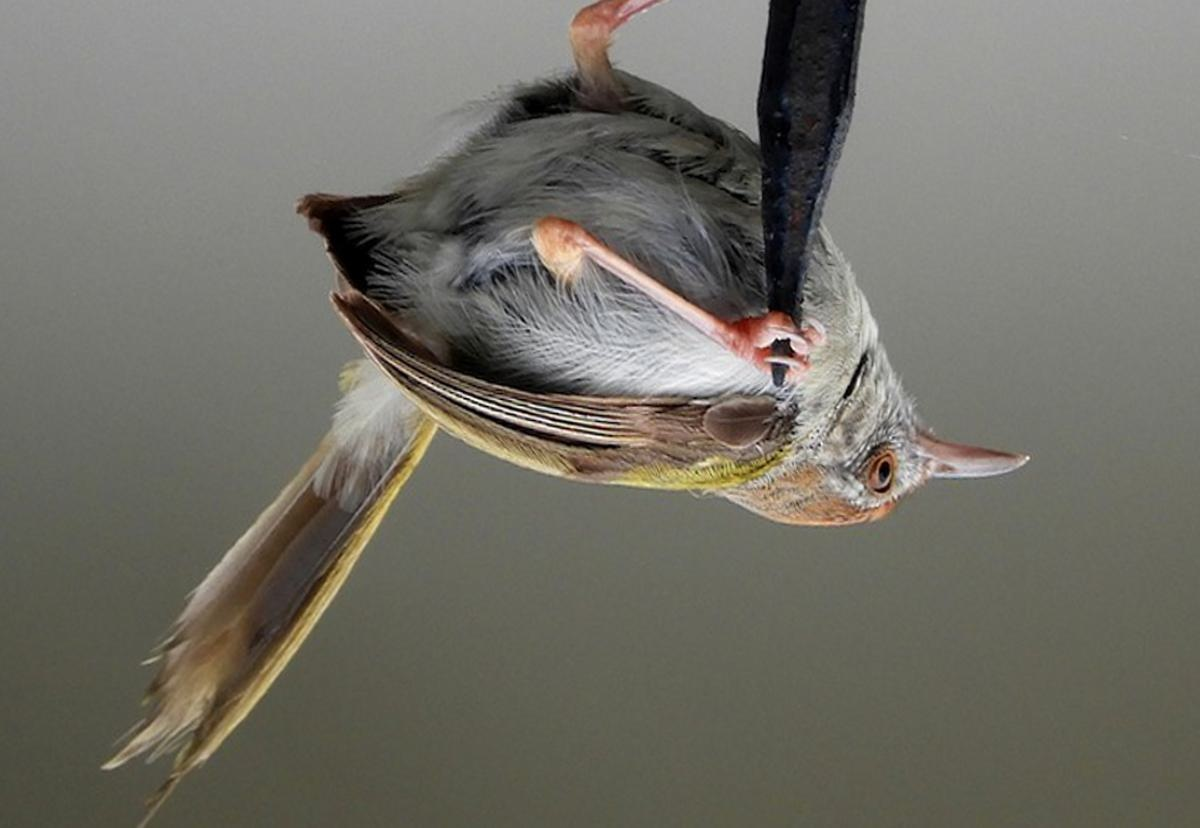tailorbird: (190, 28, 1040, 709)
